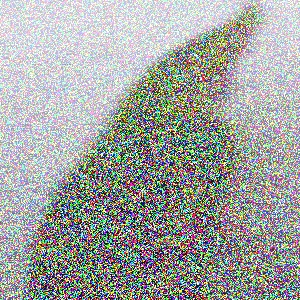Brown_Spot: (124, 224, 202, 286), (153, 154, 208, 221)
